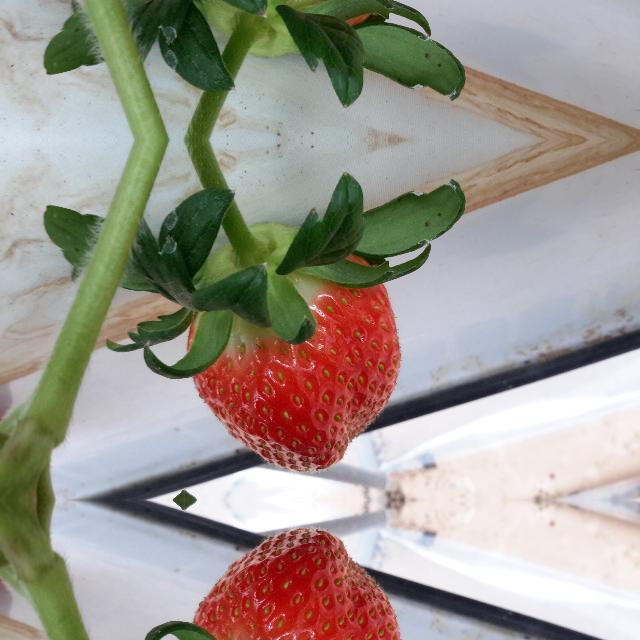Health_100: (187, 253, 401, 469), (187, 531, 401, 640)
